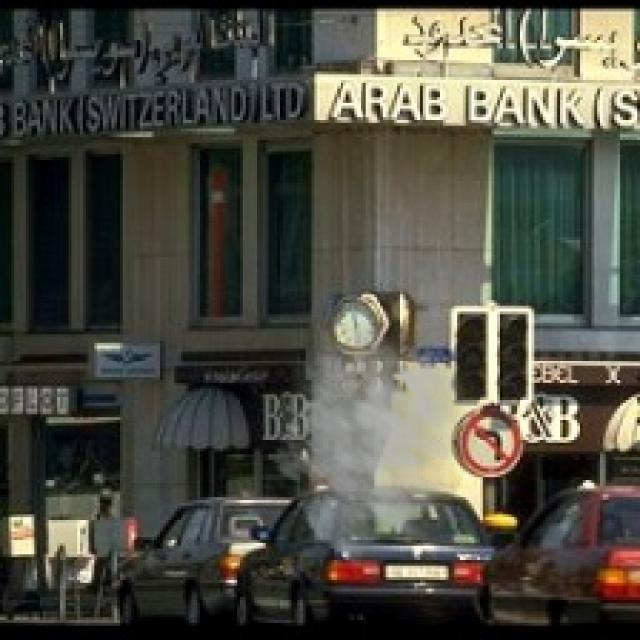smoke: (266, 309, 497, 577)
